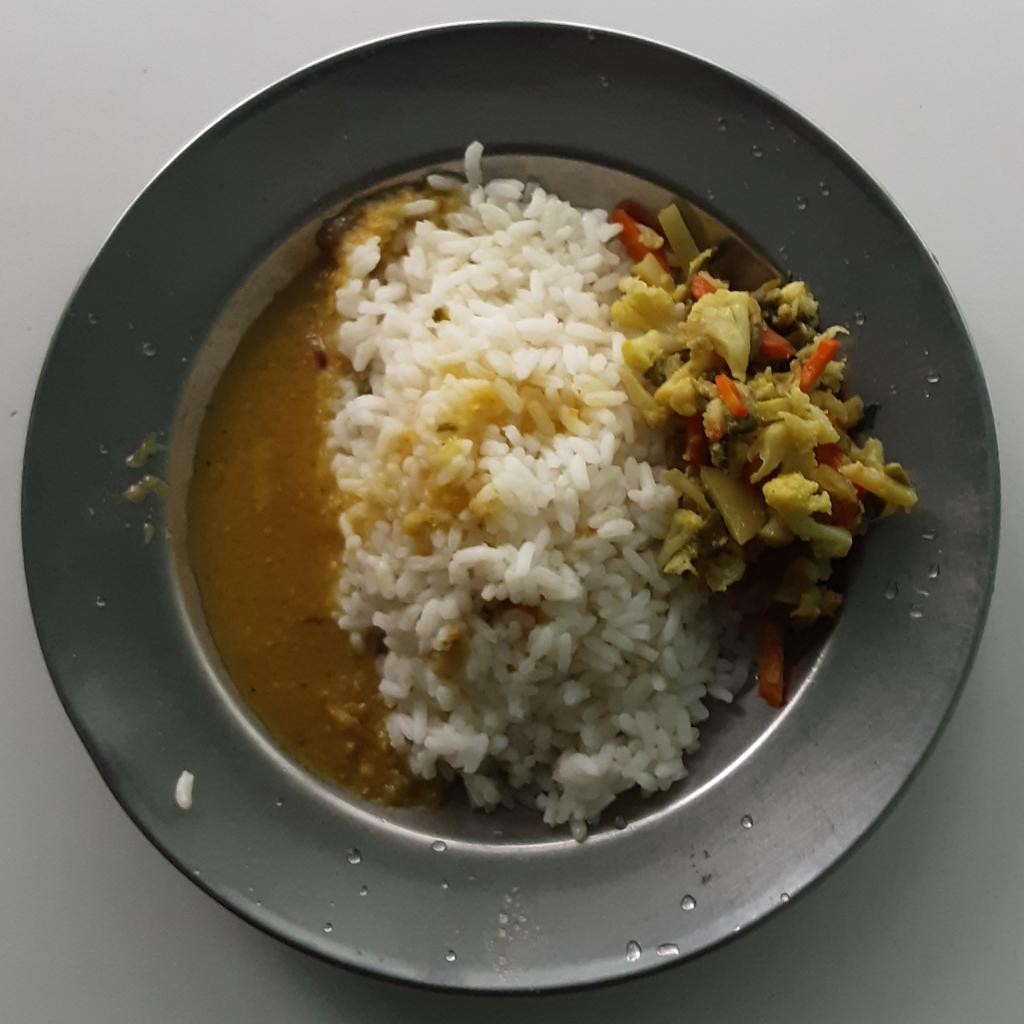cauliflower: (609, 196, 919, 615)
daal: (185, 164, 429, 812)
rice: (328, 136, 759, 842)
